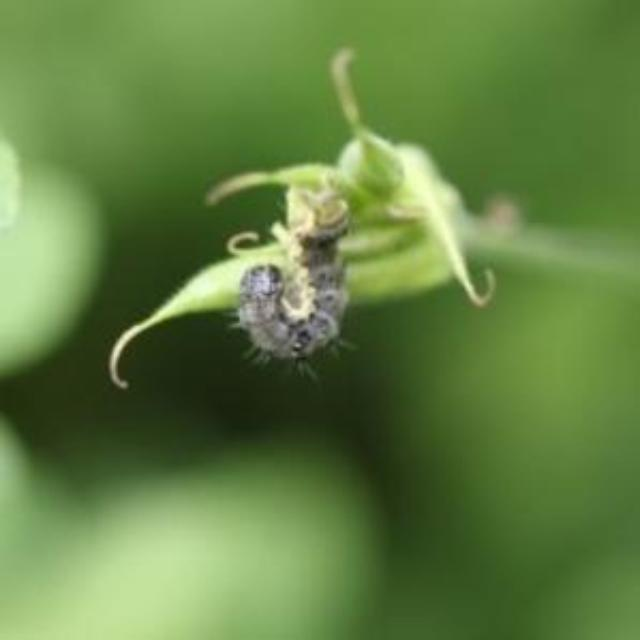Cotton bollworm: (217, 165, 381, 382)
